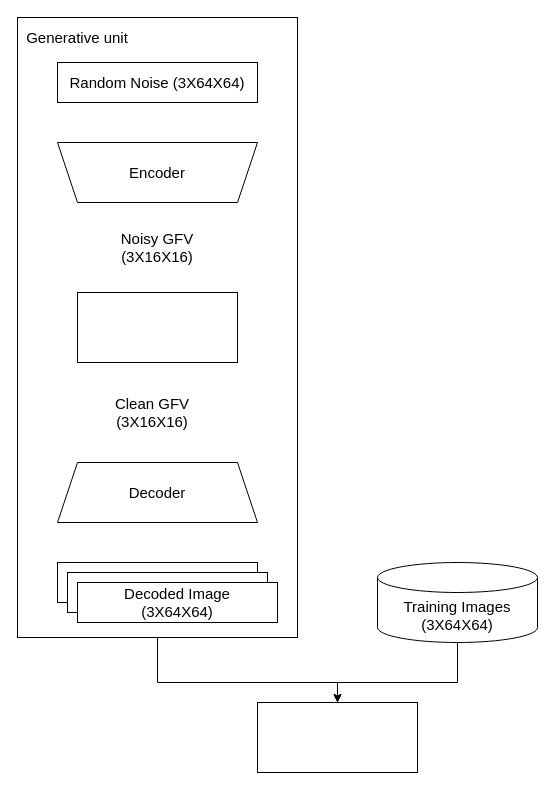
Some shapes in this 555 by 790 pixel diagram are drawn without their labels. The shapes that lost their labels are listed below. From the top down, each one's centre as x and y in pixels, then its label:
point 157,327: (input 3X16X16) Generator (output 3X16X16)
point 337,737: (input 3X64X64) Discriminator (output 1X1X1)
